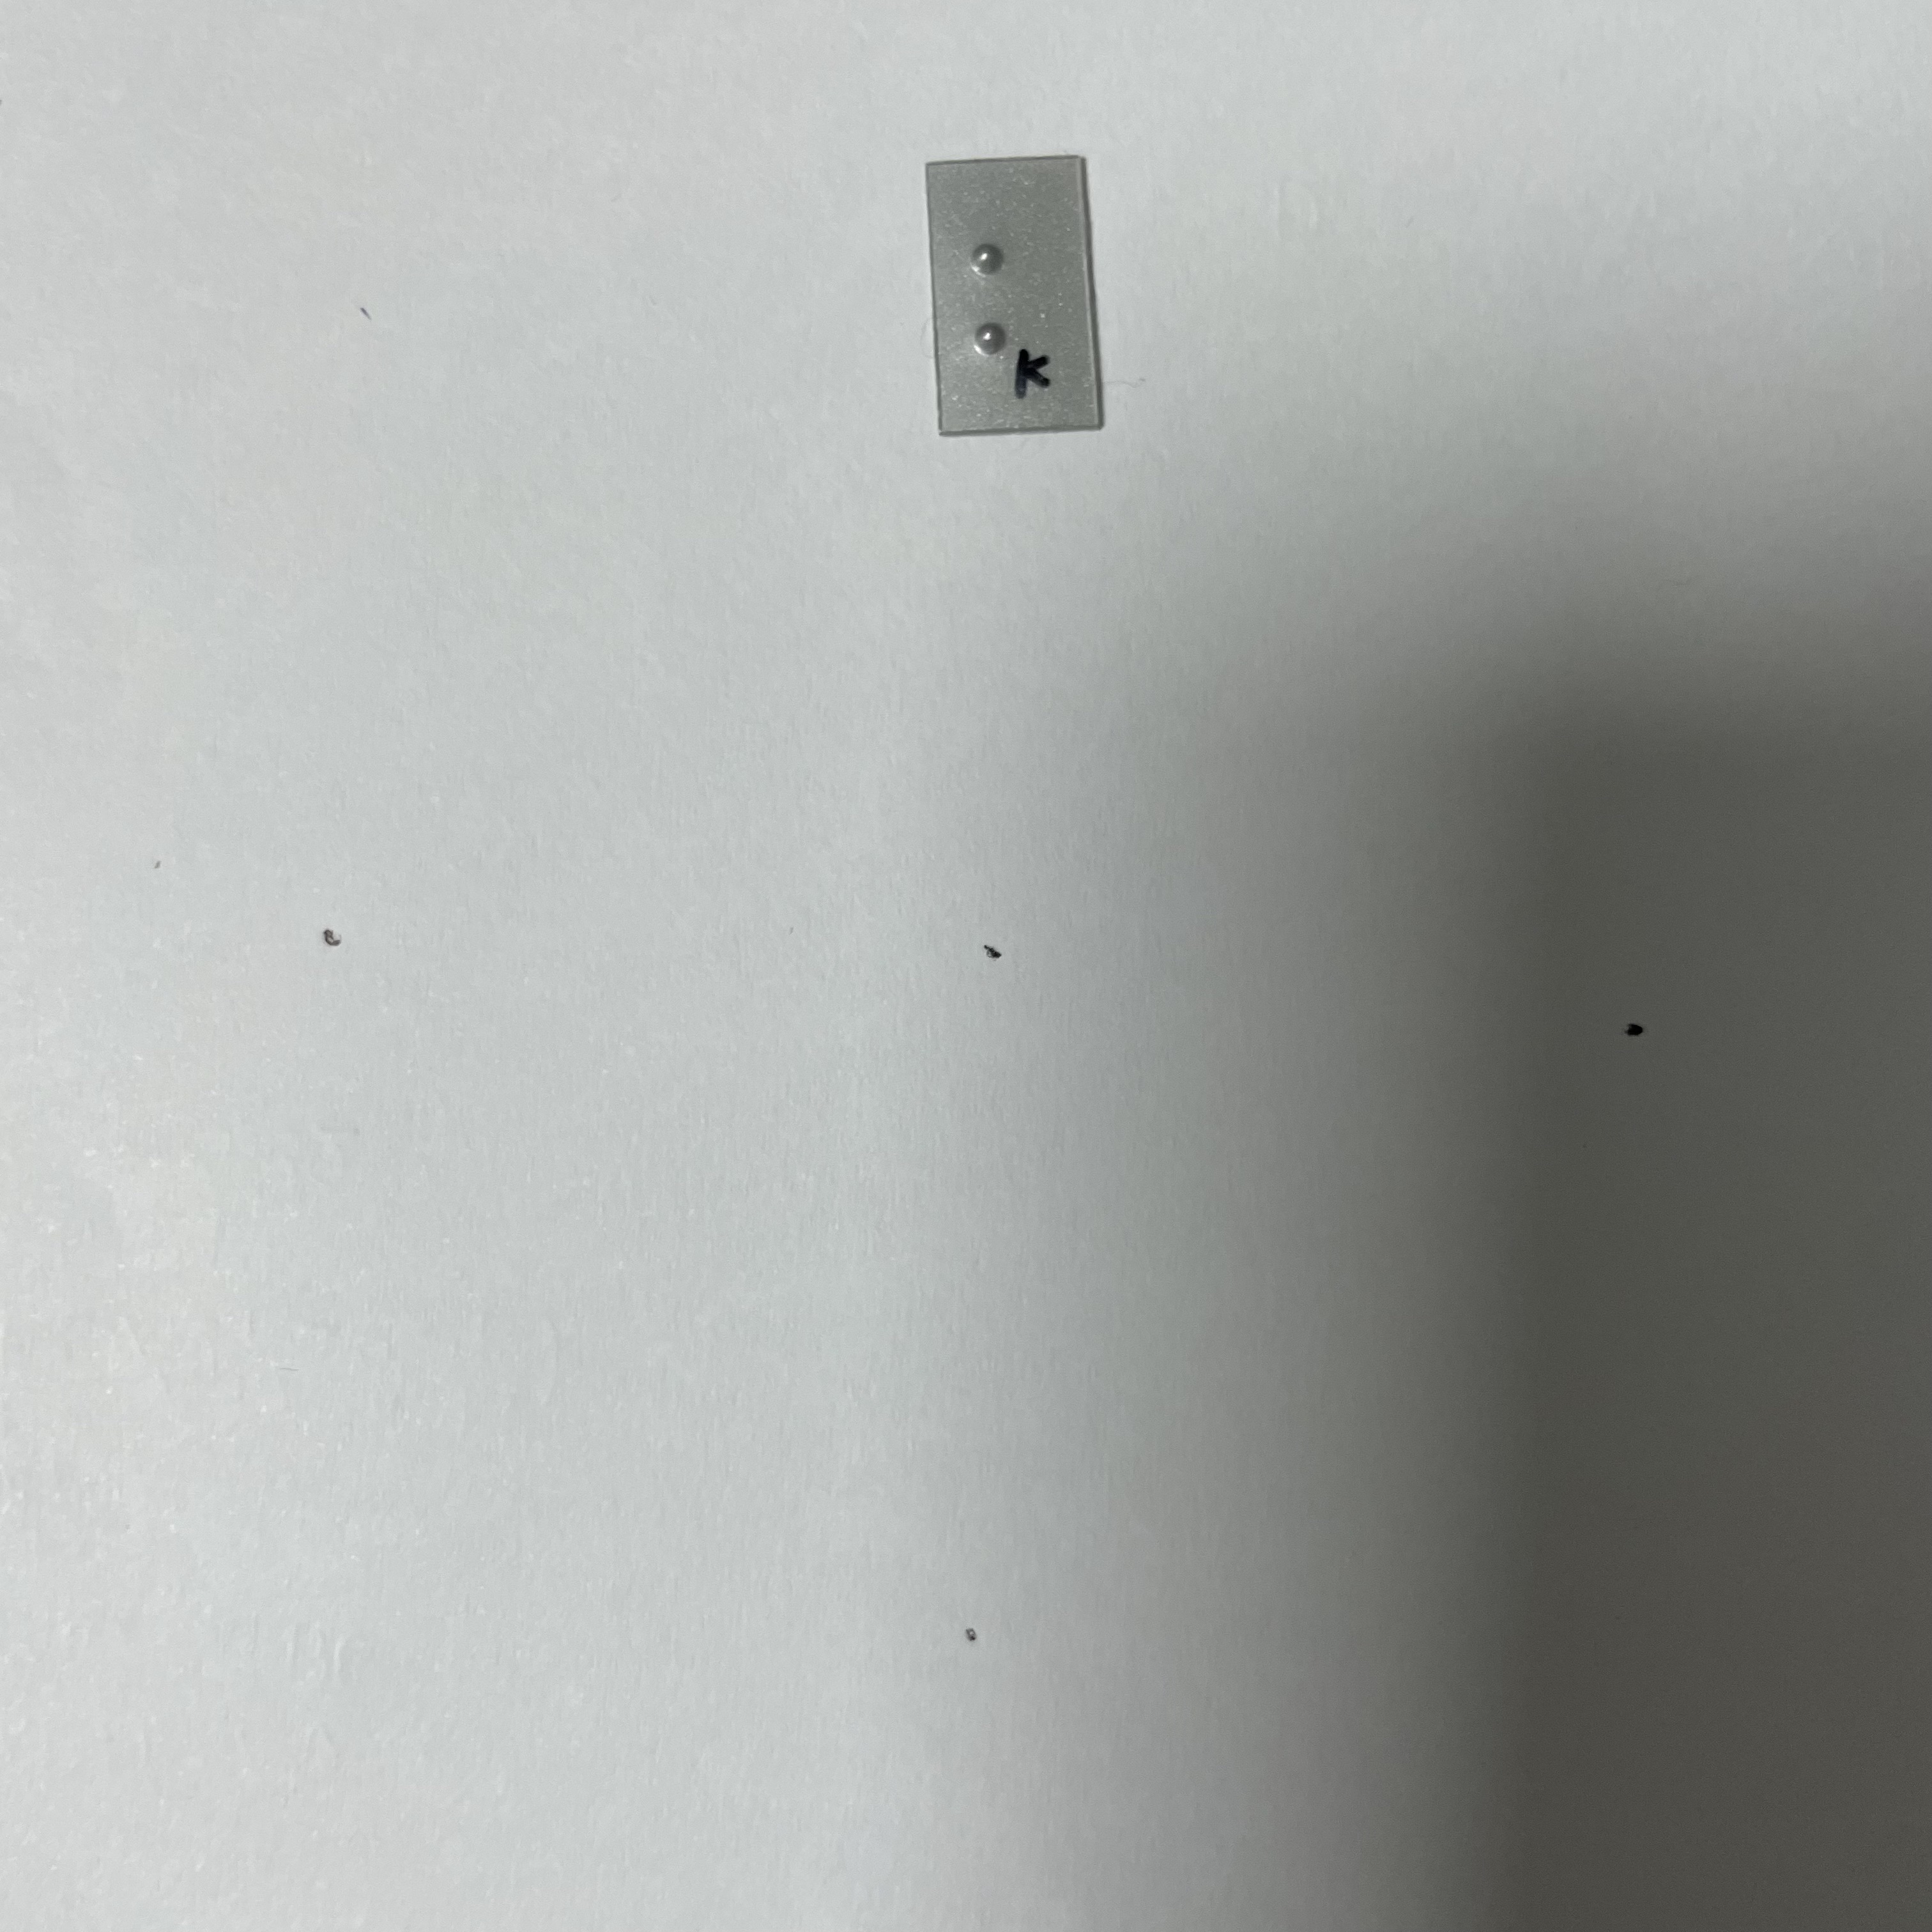k: (961, 227, 1065, 360)
